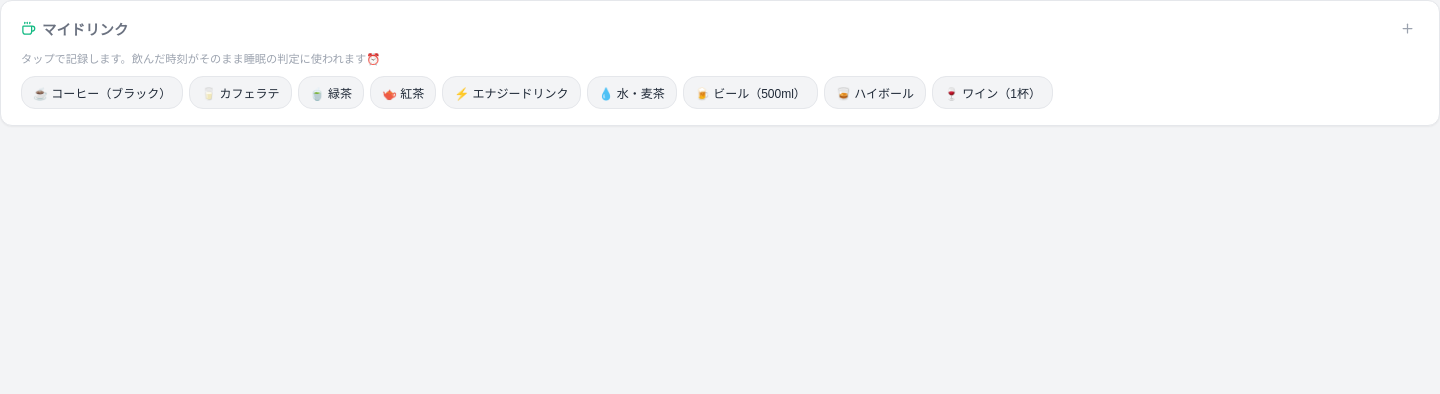
Test: DrinkQuickLog › registers a custom drink with explicit zeros for blank fields
Click the button named "飲み物を登録": (1408, 28) top-left (1396, 17), bottom-right (1419, 40)
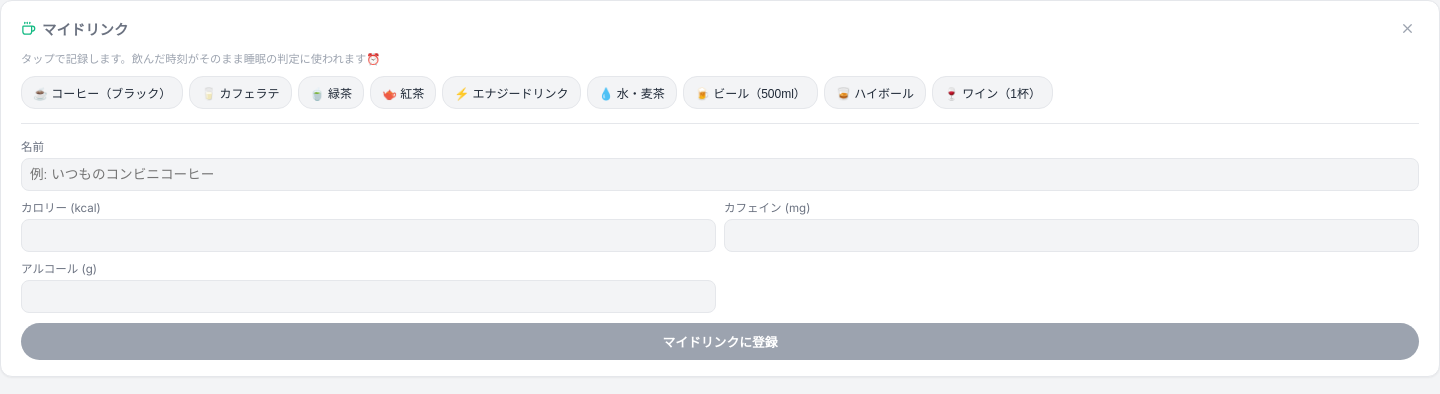
In the field labelled "名前": (720, 174) top-left (21, 158), bottom-right (1419, 191), type "マイコーヒー"
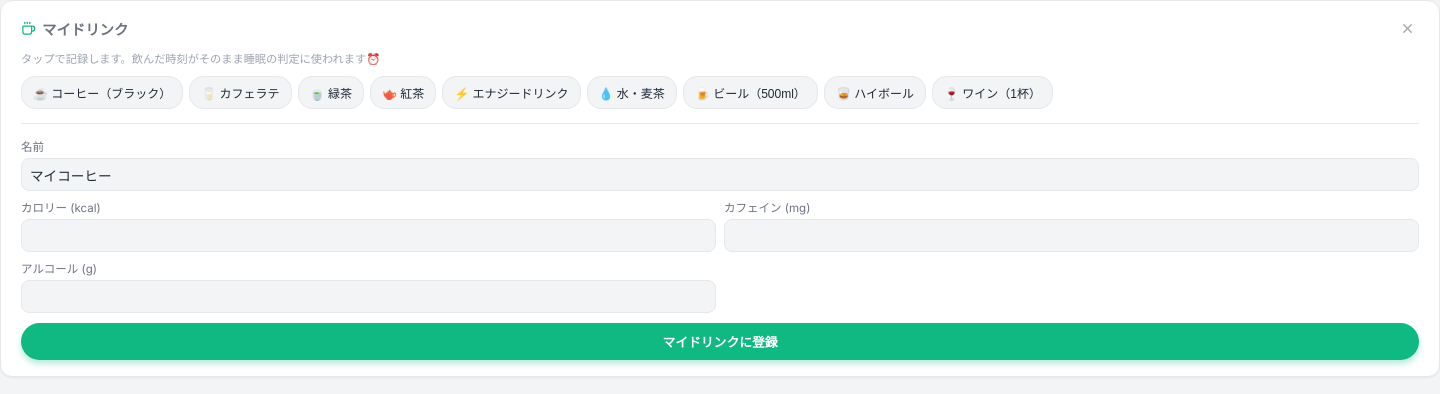
In the number field labelled "カフェイン (mg)": (1072, 236) top-left (724, 219), bottom-right (1419, 252), type "120"
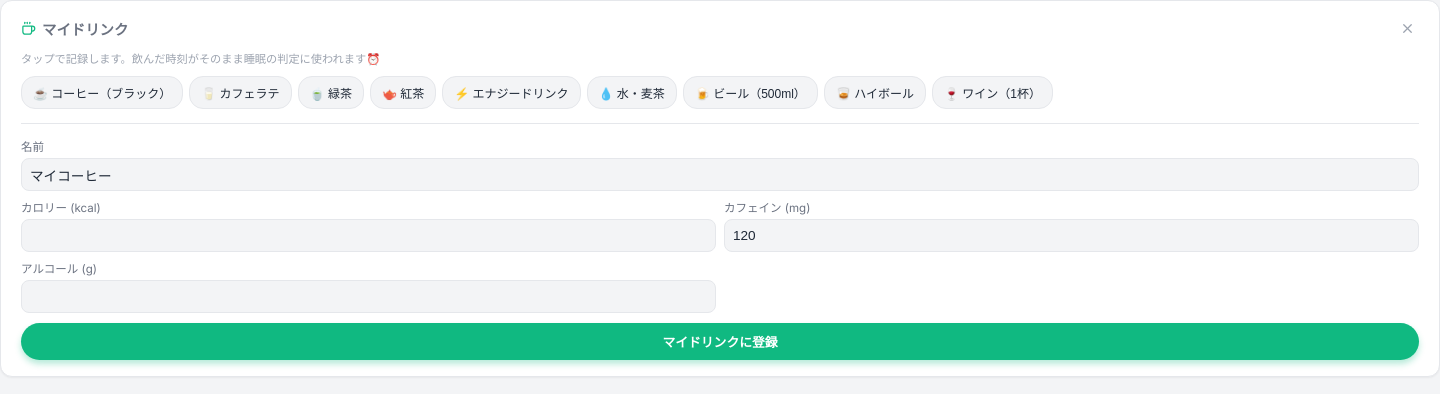
Click the button "マイドリンクに登録": (720, 342) top-left (21, 323), bottom-right (1419, 360)
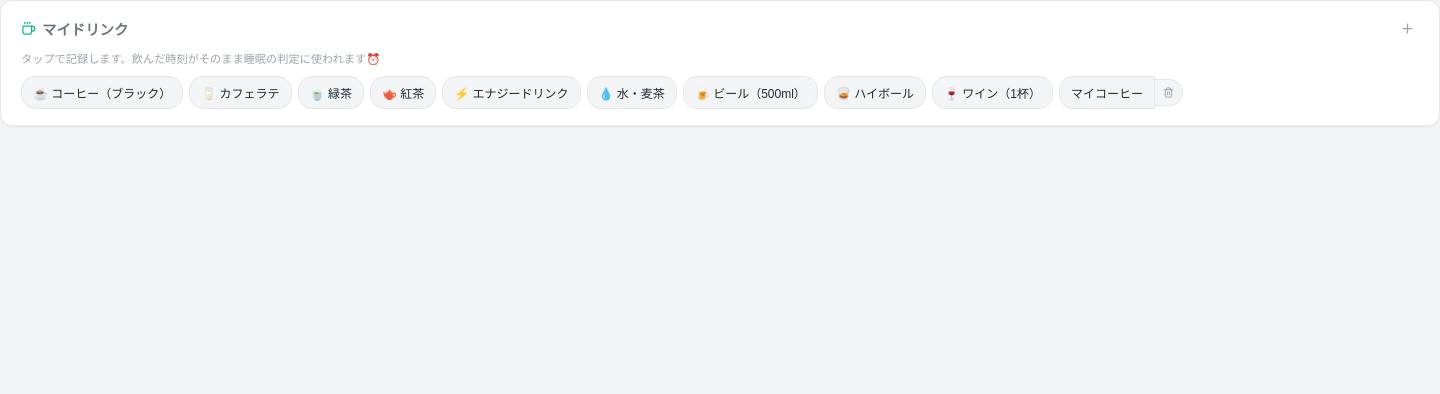
Expected: the button "マイコーヒー" is shown, top-left (1059, 76), bottom-right (1155, 109)
